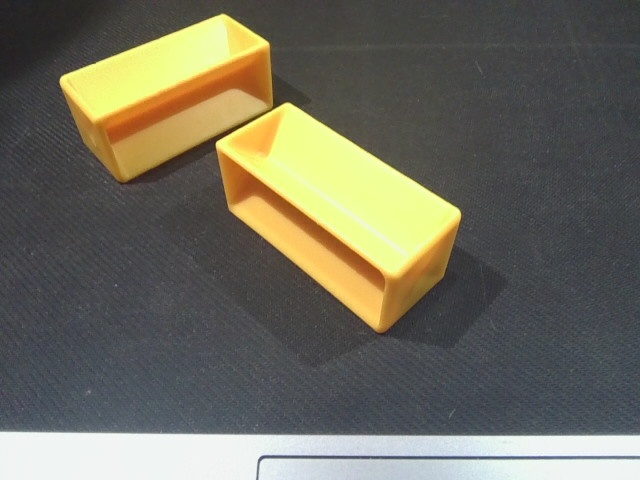YellowSample: (177, 99, 464, 337), (51, 9, 275, 184)
